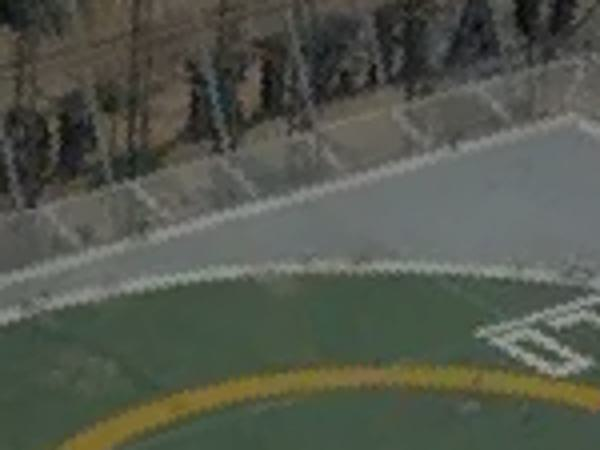Apron: (58, 356, 600, 450)
